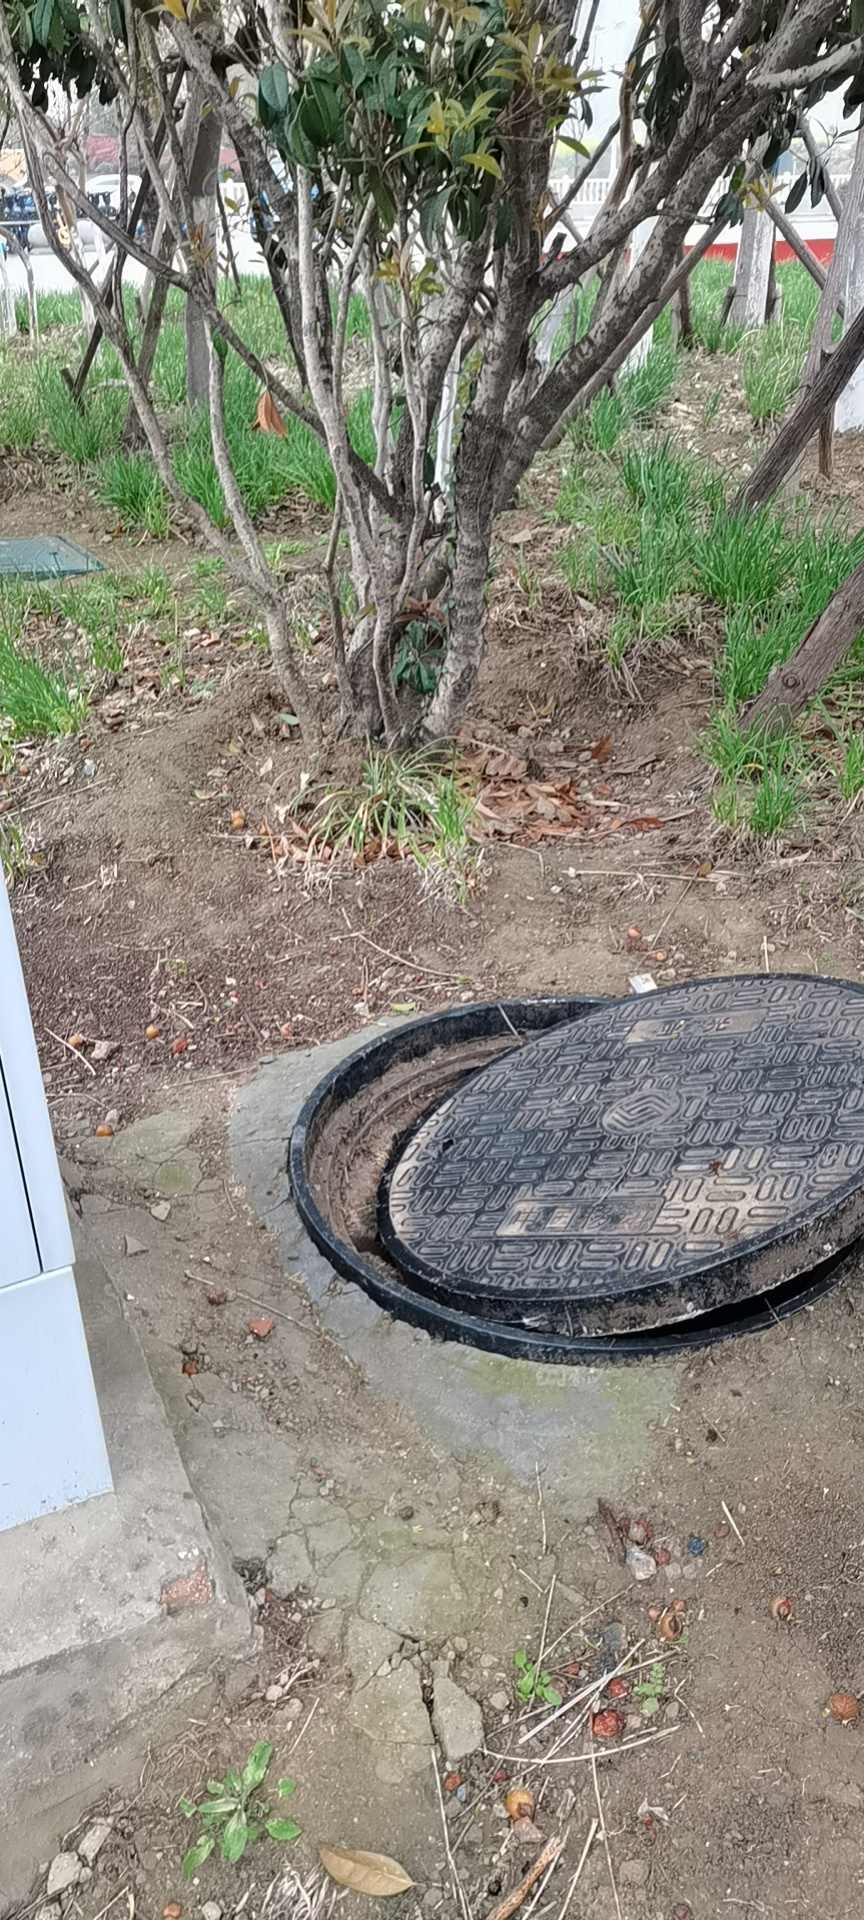uncovered: (285, 969, 863, 1367)
